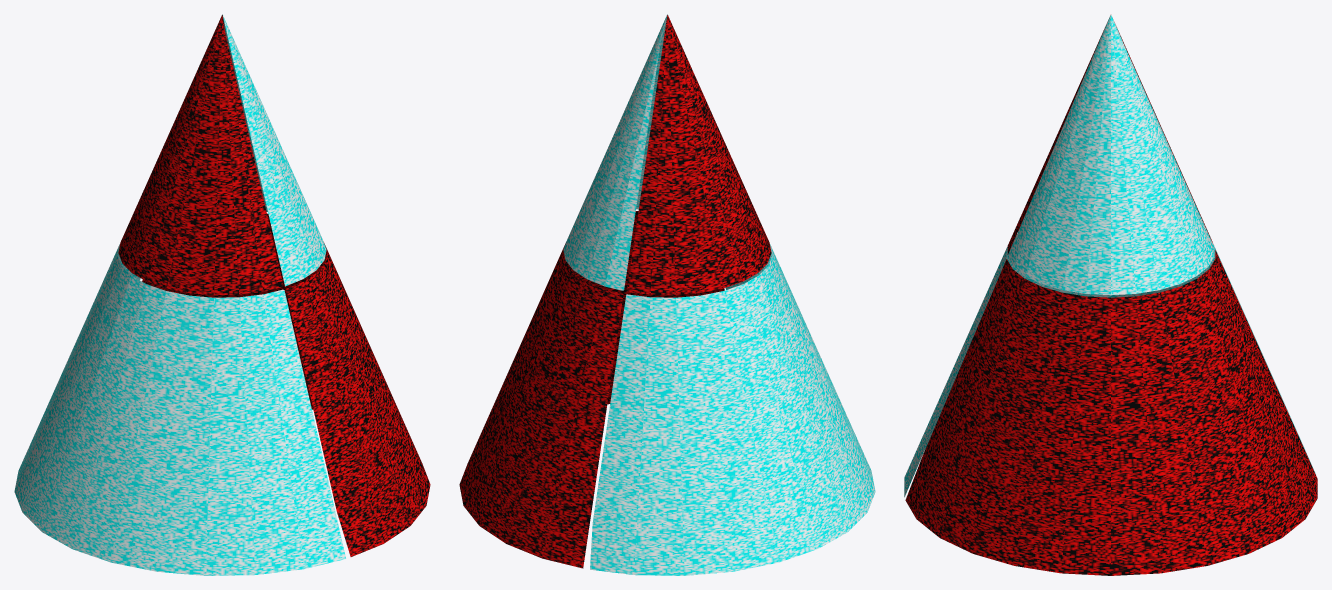
File: SM_Cone_02_HJS.fbx
3 renders of one model, left to right at view 1: azimuth 30°, elevation 25°; view 2: azimuth 150°, elevation 25°; view 3: azimuth 270°, elevation 25°, orthographic.
Parts seen in each view (by area): view 1: SM_Cone_02_HJS; view 2: SM_Cone_02_HJS; view 3: SM_Cone_02_HJS.
Boxes of the visible parts, x1,y1,x2,y2 form: SM_Cone_02_HJS: [14, 14, 430, 575]; SM_Cone_02_HJS: [459, 14, 875, 575]; SM_Cone_02_HJS: [904, 15, 1317, 575].
Size of the model in its own units: 119 by 150 by 118.
